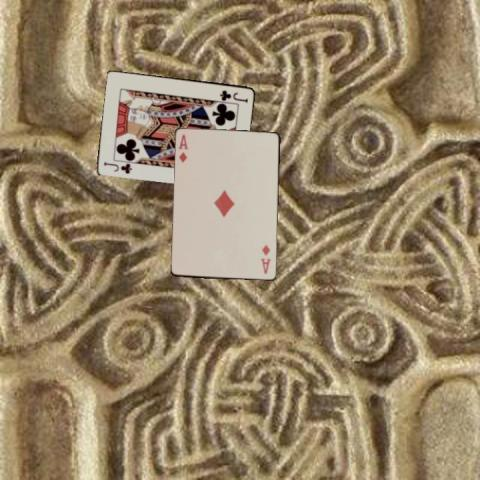Ad: (259, 242, 272, 275), (176, 131, 189, 164)
Jc: (218, 87, 250, 103), (102, 158, 134, 174)
